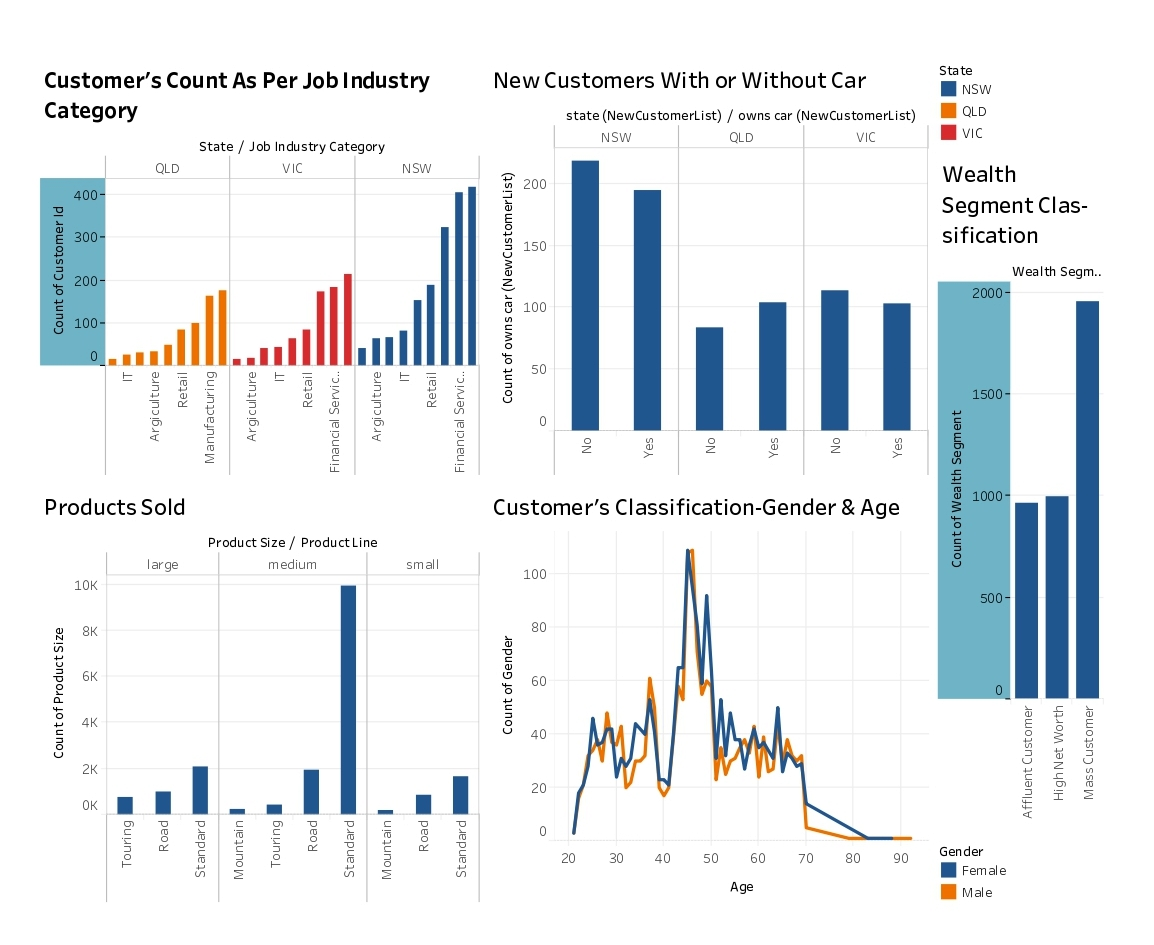

Layout of this report page (visuals, bound fields, positions):
{"tool":"tableau","page":{"name":"Dashboard 1","canvas":[1000,800],"ordinal":0},"visuals":[{"type":"worksheet","title":"Cust_Add","mark":"Automatic","rows":["customer_id"],"cols":["state","job_industry_category"],"box":[8,8,412,392]},{"type":"worksheet","title":"New_Cust","mark":"Automatic","rows":["owns_car (NewCustomerList)"],"cols":["state (NewCustomerList)","owns_car (NewCustomerList)"],"box":[420,8,412,392]},{"type":"legend","title":"Cust_Add","param":"[federated.1fzzo941mebp6t1da5eq11pj1q3h].[none:state:nk]","box":[832,8,160,87]},{"type":"worksheet","title":"Wealth","mark":"Automatic","rows":["wealth_segment"],"cols":["wealth_segment"],"box":[832,95,160,630]},{"type":"worksheet","title":"Traxn","mark":"Automatic","rows":["product_size"],"cols":["product_size","product_line"],"box":[8,400,412,392]},{"type":"worksheet","title":"Gend_Cust","mark":"Automatic","rows":["gender"],"cols":["Age"],"box":[420,400,412,392]},{"type":"legend","title":"Gend_Cust","param":"[federated.1fzzo941mebp6t1da5eq11pj1q3h].[none:gender:nk]","box":[832,725,160,67]}]}

Visuals, with their boxes in screenshot pixels (x1, y1, x2, y2), scaled from the page's 1000x800 canvas onto the 1154x945 screenshot:
"Cust_Add" worksheet: (9, 9, 485, 472)
"New_Cust" worksheet: (485, 9, 960, 472)
"Cust_Add" legend: (960, 9, 1145, 112)
"Wealth" worksheet: (960, 112, 1145, 856)
"Traxn" worksheet: (9, 472, 485, 936)
"Gend_Cust" worksheet: (485, 472, 960, 936)
"Gend_Cust" legend: (960, 856, 1145, 936)
